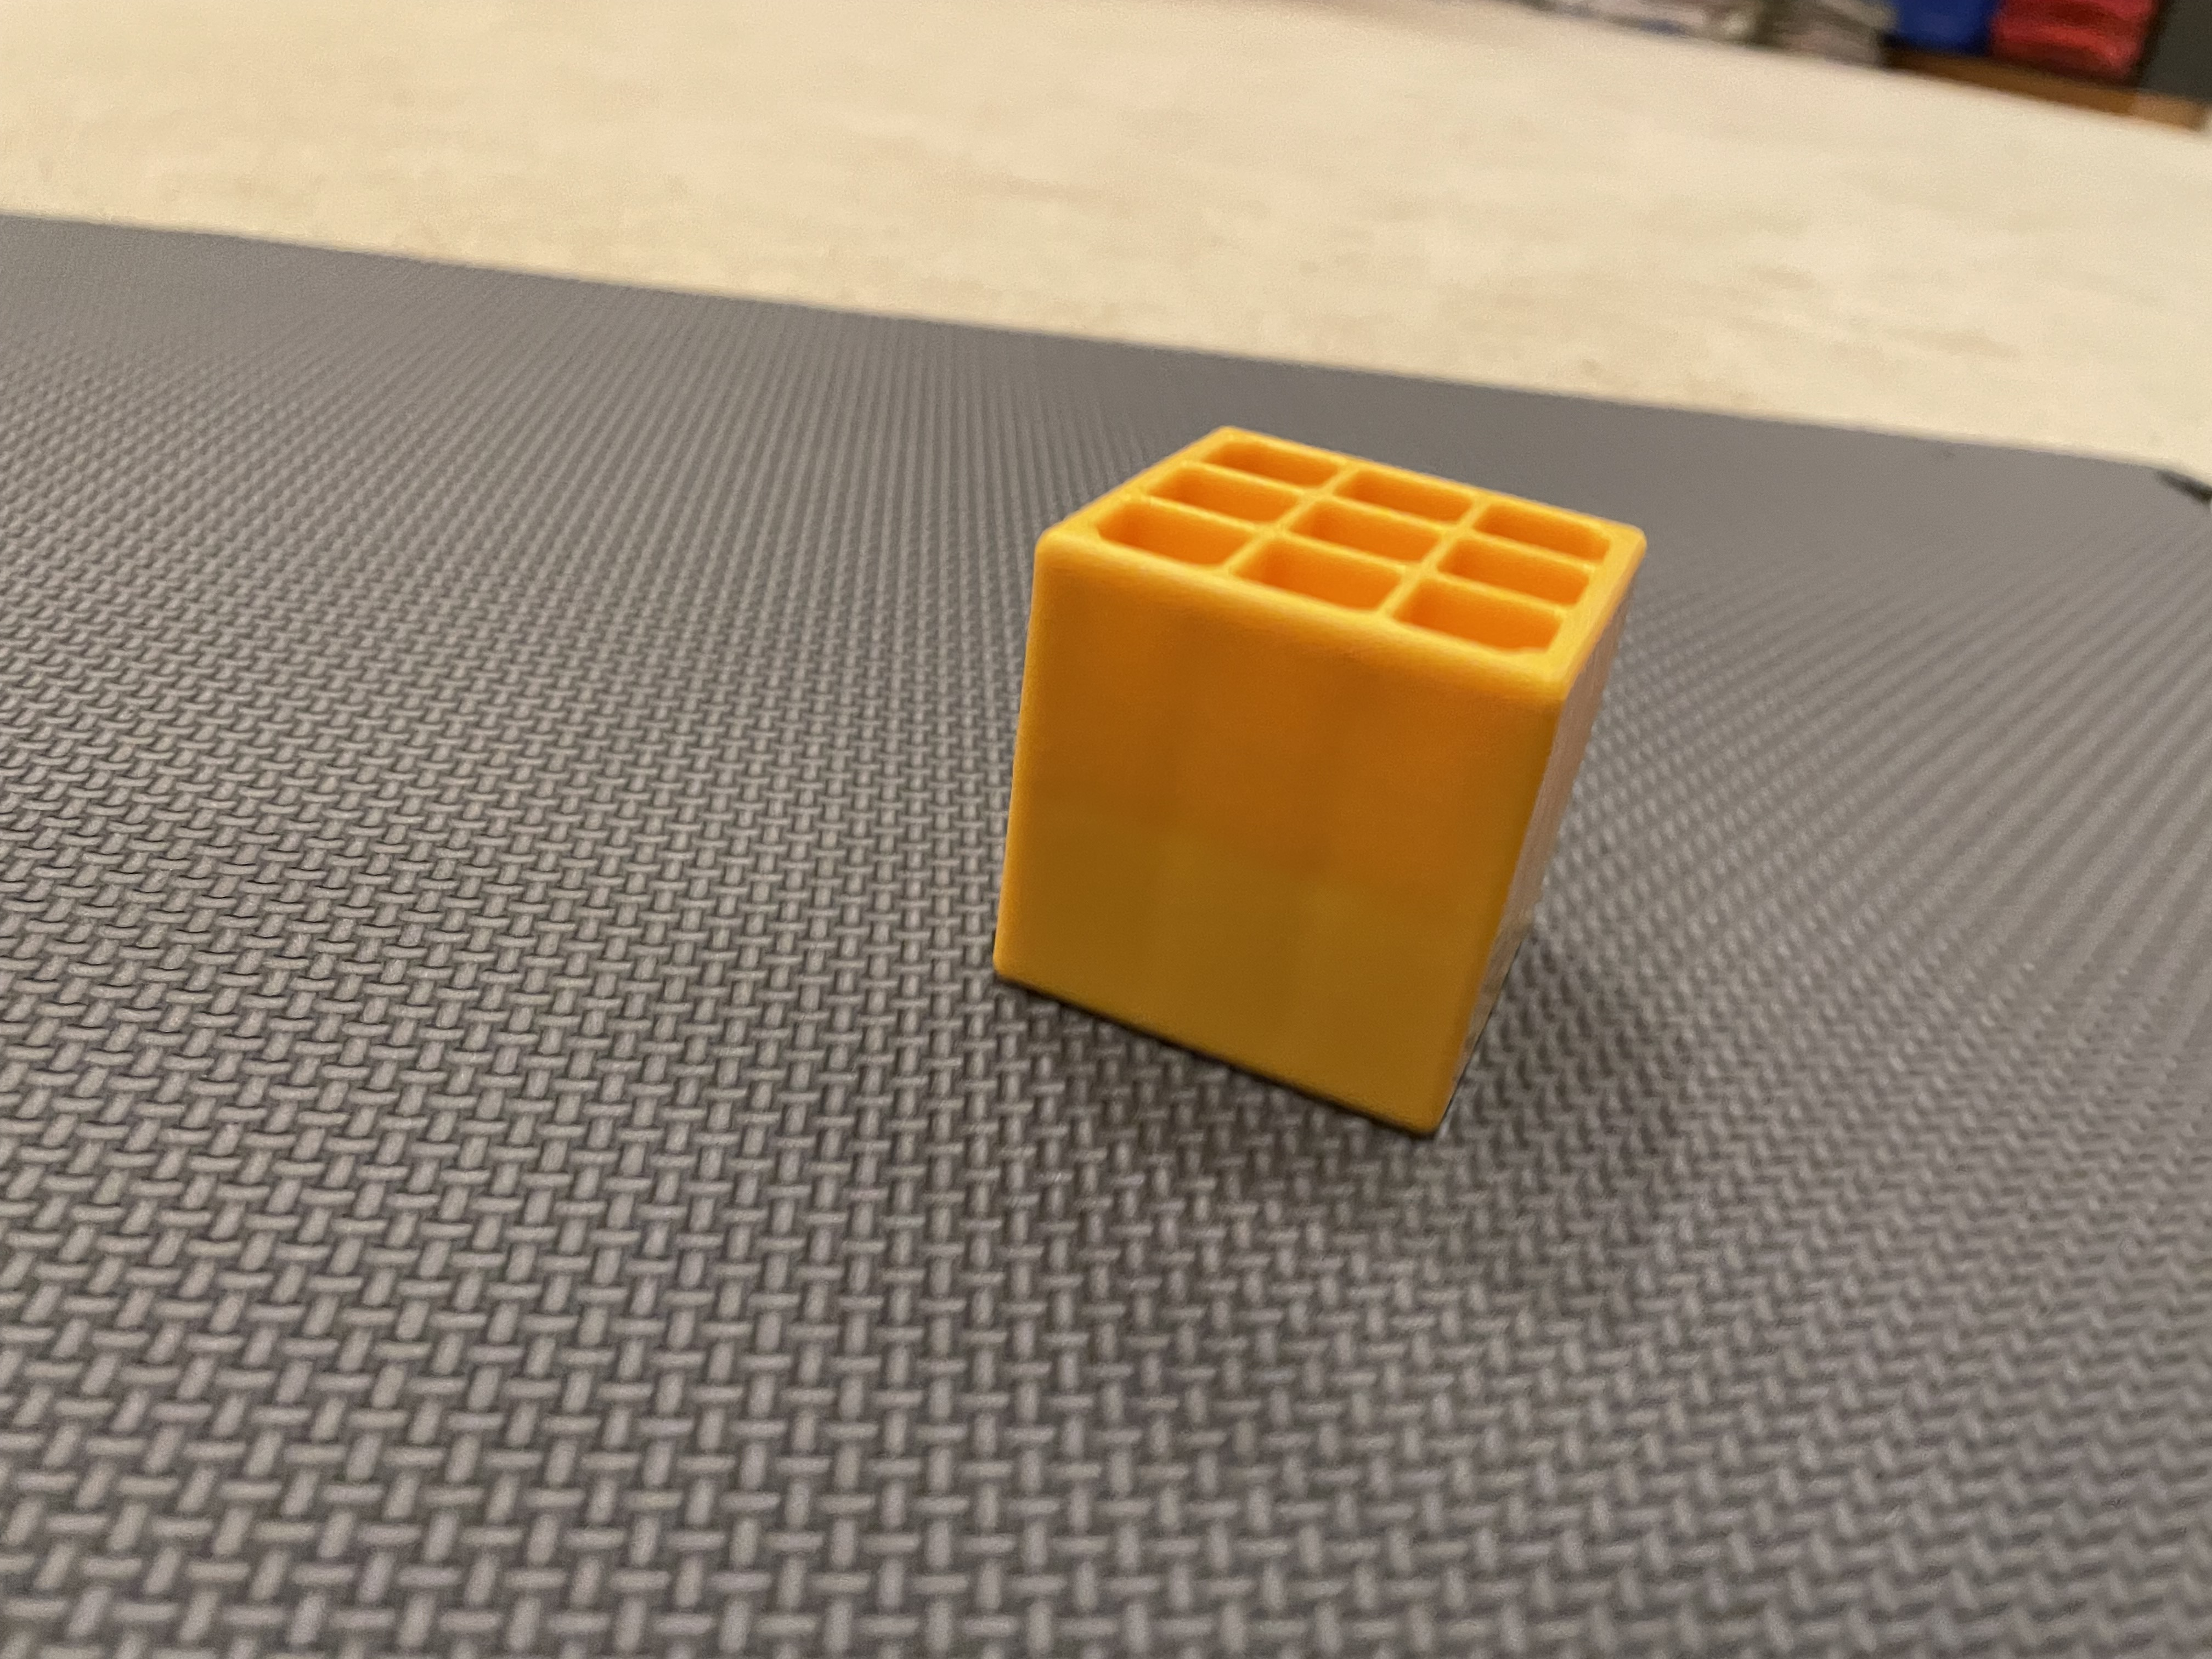cube: (914, 371, 1712, 1232)
